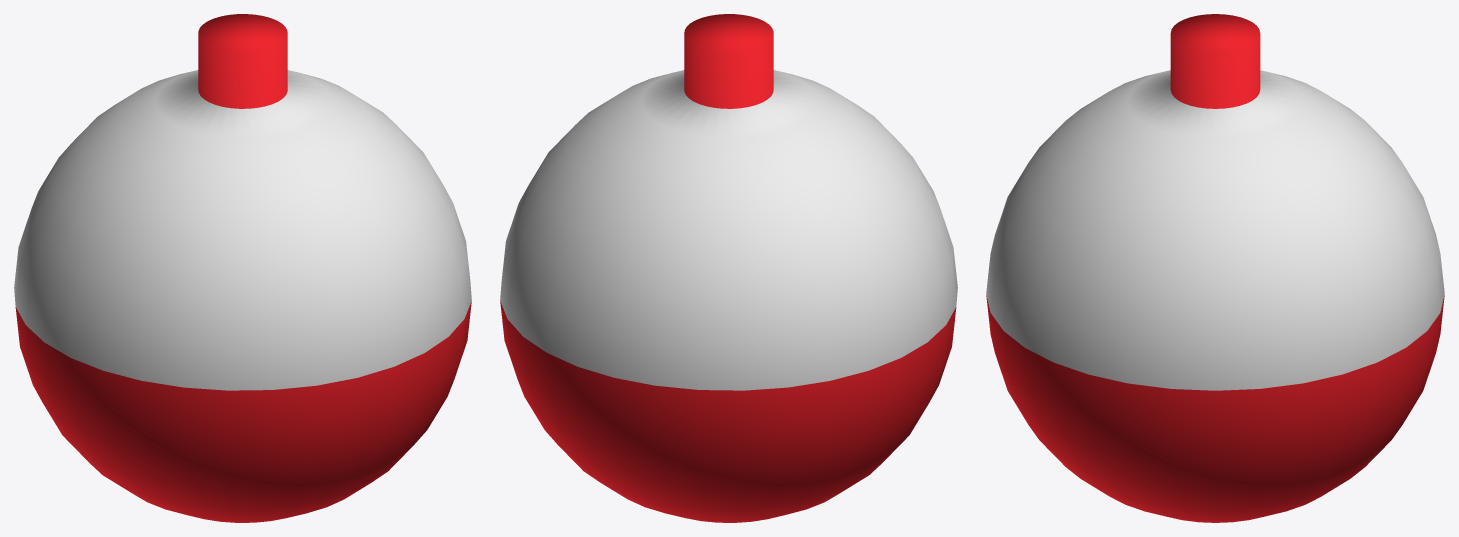
File: FishBobber.fbx
The picture shows the model from 3 angles, left to right: view 1: azimuth 30°, elevation 25°; view 2: azimuth 150°, elevation 25°; view 3: azimuth 270°, elevation 25°; orthographic projection.
Parts seen in each view (by area): view 1: Sphere; view 2: Sphere; view 3: Sphere.
Boxes of the visible parts, x1,y1,x2,y2 form: Sphere: (14, 14, 471, 522); Sphere: (500, 14, 957, 522); Sphere: (986, 14, 1444, 522).
Size of the model in its own units: 102 by 115 by 102.
